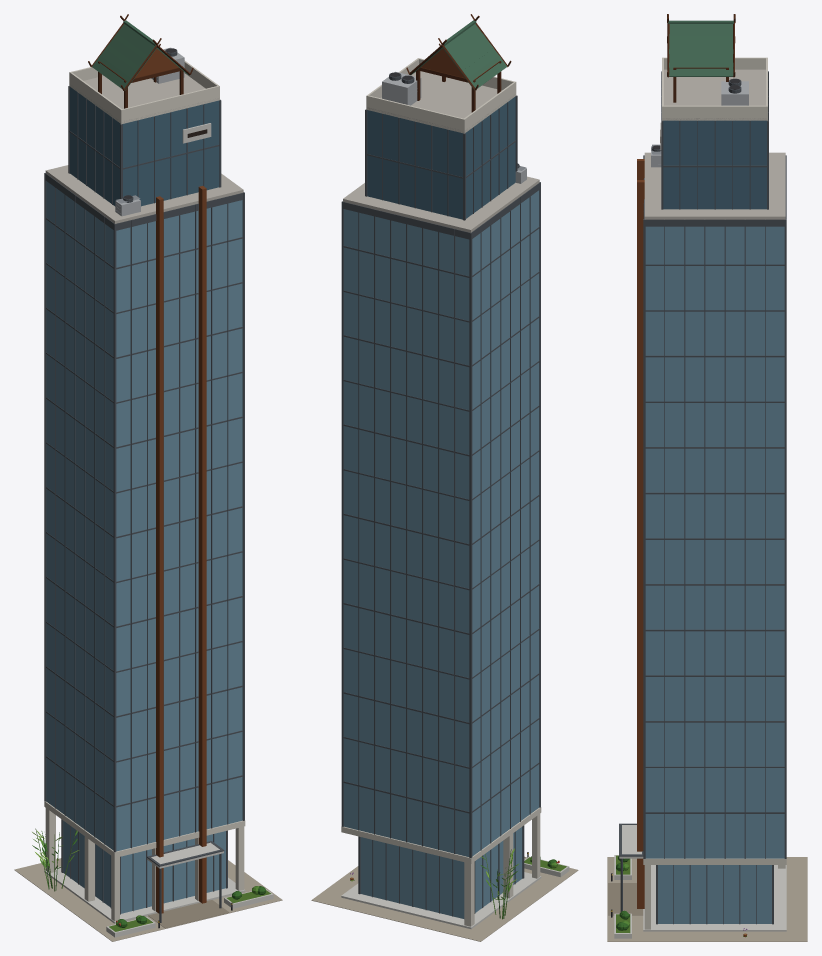
Rendered from shop_4.glb.
3 renders of one model, left to right at view 1: azimuth 30°, elevation 25°; view 2: azimuth 150°, elevation 25°; view 3: azimuth 270°, elevation 25°, orthographic. The views are drawn at different scales.
Parts seen in each view (by area): view 1: body; view 2: body; view 3: body.
Part boxes in pixels (<box>): body: <box>14,14,282,941</box>; body: <box>311,14,578,941</box>; body: <box>607,14,807,941</box>.
Size of the model in its own units: 16.59 by 77.18 by 15.9.
